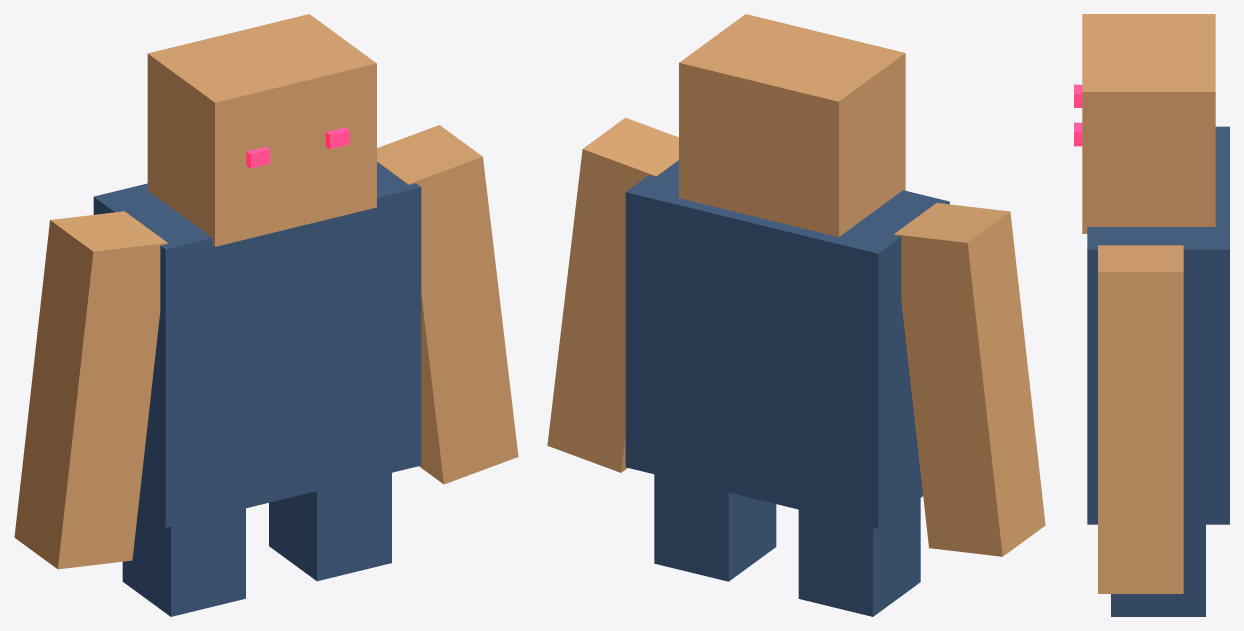
The model's file is brute.glb.
The picture shows the model from 3 angles, left to right: view 1: azimuth 30°, elevation 25°; view 2: azimuth 150°, elevation 25°; view 3: azimuth 270°, elevation 25°; orthographic projection.
Visible parts, largest first — view 1: body, head, arm_l, arm_r, leg_l, leg_r; view 2: body, head, arm_l, arm_r, leg_l, leg_r; view 3: arm_r, head, body, leg_r.
Part boxes in pixels (x1,y1,x2,y2): body: [93, 162, 421, 527]; head: [147, 14, 376, 246]; arm_l: [14, 211, 167, 569]; arm_r: [377, 125, 518, 484]; leg_l: [122, 508, 245, 616]; leg_r: [269, 473, 391, 581]; body: [625, 160, 949, 528]; head: [679, 14, 905, 236]; arm_l: [894, 203, 1045, 556]; arm_r: [547, 117, 678, 472]; leg_l: [798, 498, 920, 616]; leg_r: [654, 474, 776, 581]; arm_r: [1098, 245, 1183, 593]; head: [1082, 14, 1215, 233]; body: [1087, 126, 1229, 524]; leg_r: [1111, 524, 1205, 616].
Bounding box in the file's own units: 4.42 × 4.74 × 1.31.
